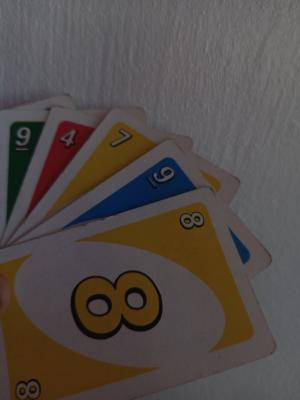blue: (99, 189, 198, 213)
num_4: (56, 119, 83, 160)
num_8: (176, 207, 215, 303)
num_9: (8, 116, 39, 165), (145, 153, 181, 191)
yellow: (3, 332, 60, 400), (104, 122, 139, 163)
